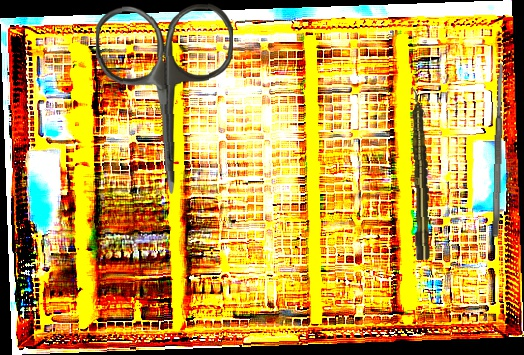Handpiece: (409, 87, 431, 261)
Iris Scissors: (94, 2, 239, 197)
Spatula Surgical: (490, 61, 507, 238)
